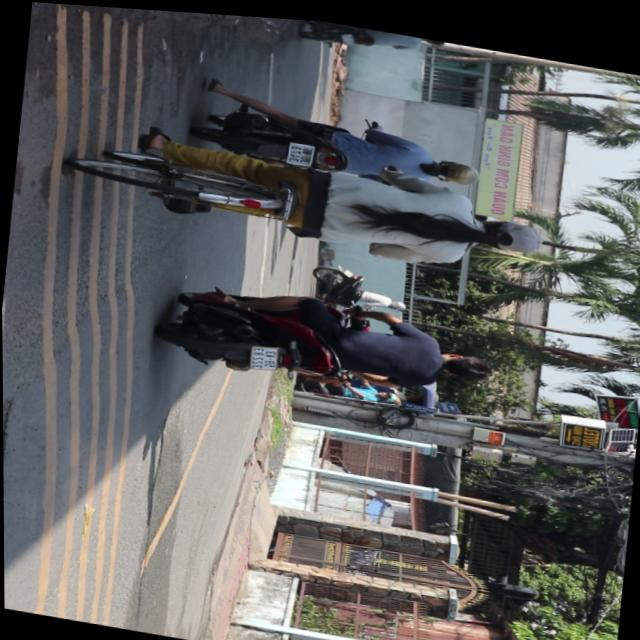helmet: (432, 151, 479, 181)
licenseplate: (154, 267, 498, 410), (190, 80, 484, 194)
motorcyclist: (437, 342, 494, 378)
nohelmet: (288, 137, 316, 164), (250, 341, 279, 367)
